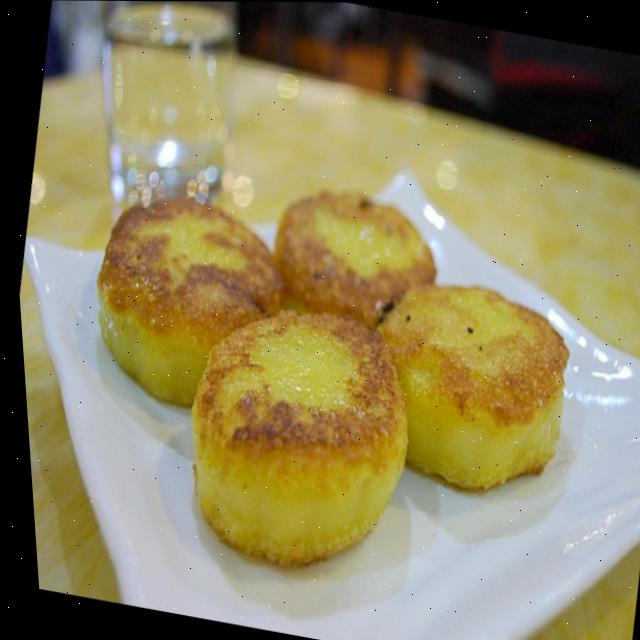炸货点心: (23, 123, 585, 597)
蛋糕甜品: (23, 123, 585, 597)
